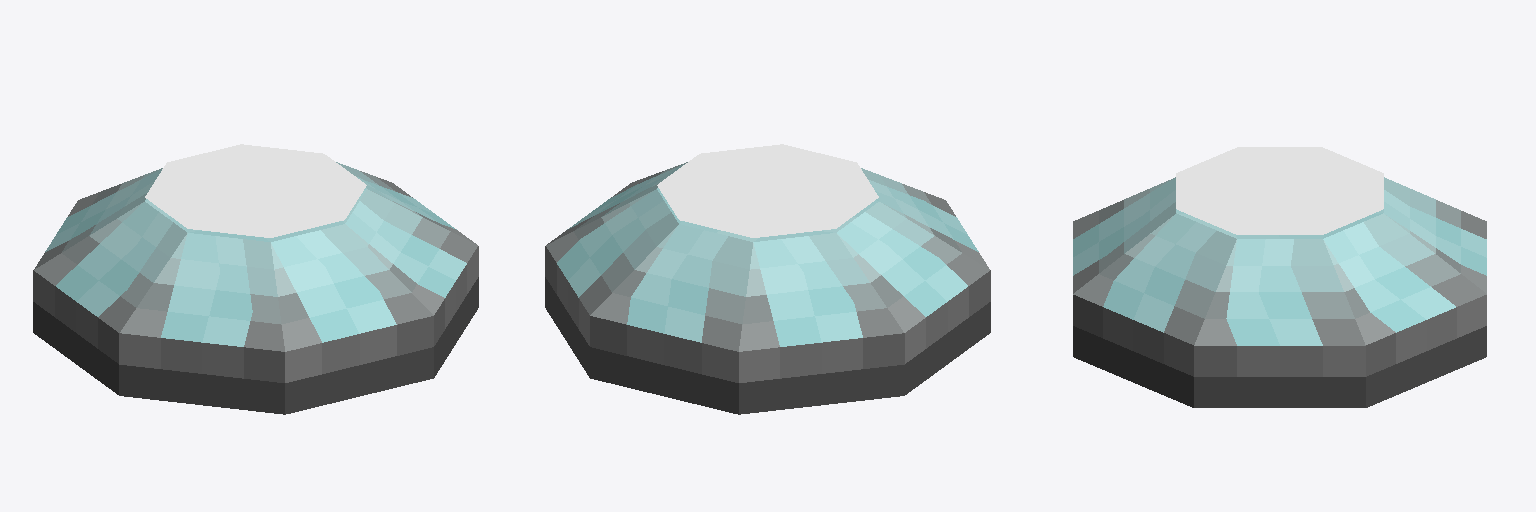
3 views of the same model, side by side, from view 1: azimuth 30°, elevation 25°; view 2: azimuth 150°, elevation 25°; view 3: azimuth 270°, elevation 25° (orthographic).
Visible parts, largest first — view 1: Detector, HaloMask; view 2: Detector, HaloMask; view 3: Detector, HaloMask.
Boxes of the visible parts, <box> form: Detector: <box>33,162,478,414</box>; HaloMask: <box>145,144,366,237</box>; Detector: <box>545,162,990,414</box>; HaloMask: <box>657,144,878,237</box>; Detector: <box>1073,177,1486,407</box>; HaloMask: <box>1176,147,1383,234</box>.
Bounding box in the file's own units: 0.3742 × 0.1289 × 0.3742.
1 materials, 1 textured.